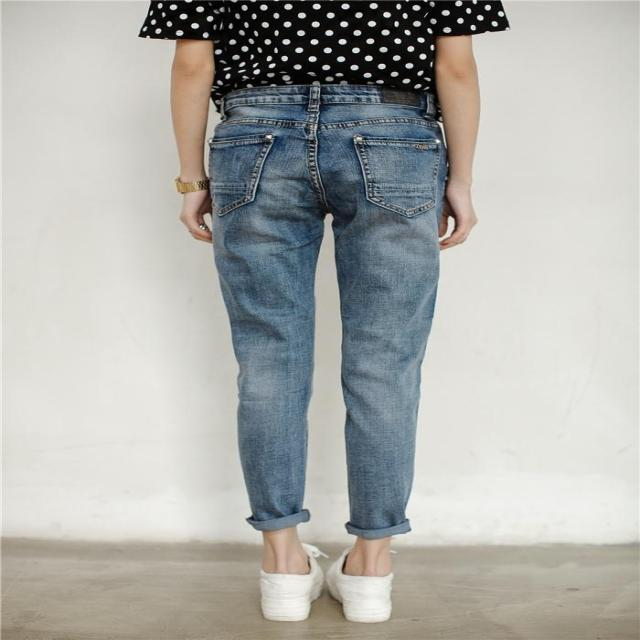short sleeve top: (219, 2, 434, 94)
trousers: (214, 88, 439, 535)
